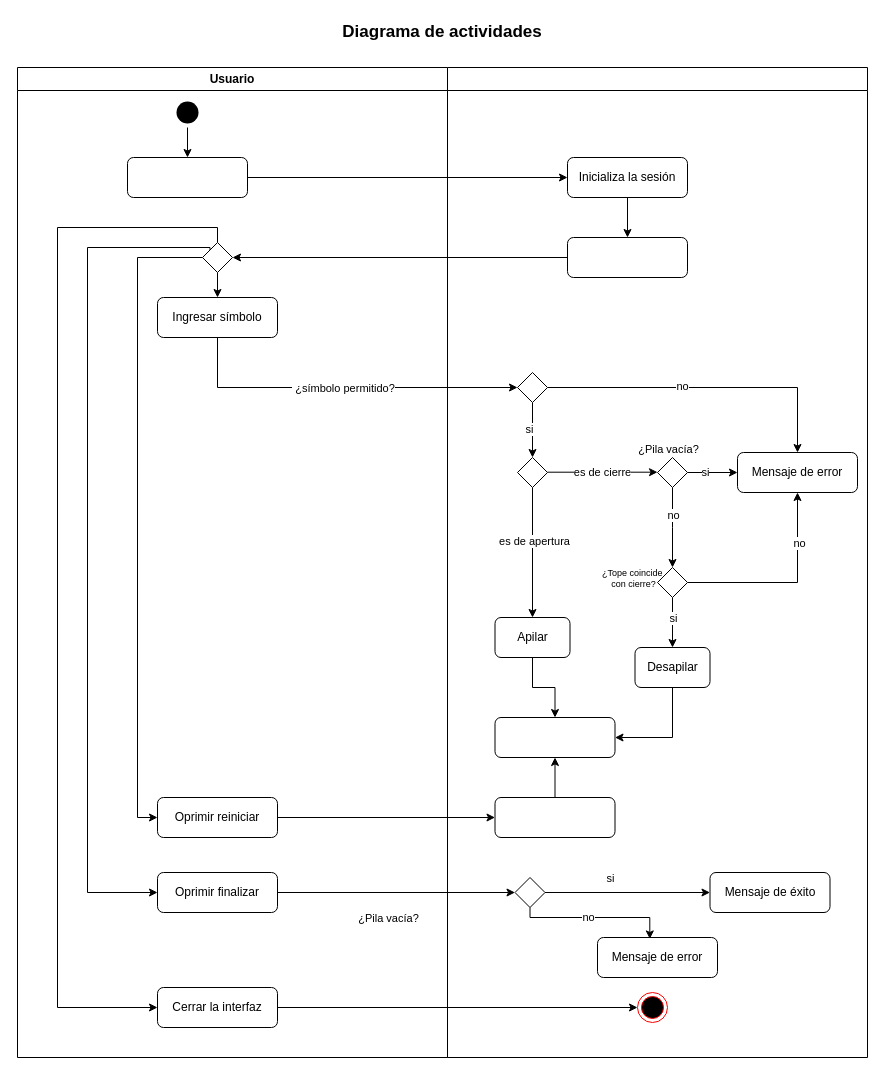
Image size: 885x1075. Some labels were removed from this diagram. Each missing label, with the box of its shape:
Accede a la página principal: (126, 156, 248, 198)
Actualizar la sesión: (494, 716, 615, 758)
Mostrar interfaz: (566, 236, 688, 278)
Sistema: (446, 66, 868, 1058)
Vaciar pila: (494, 796, 615, 838)
